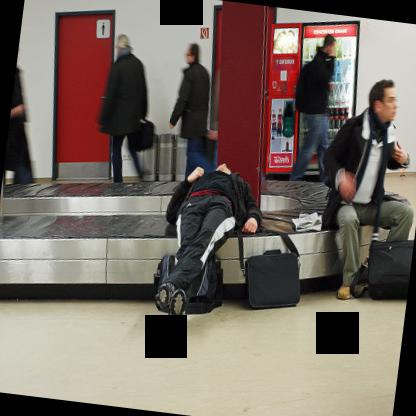backpack: (296, 59, 313, 110), (139, 116, 154, 147)
handbag: (238, 224, 300, 309), (320, 186, 341, 233), (132, 118, 156, 149)
suitcase: (367, 240, 414, 299)
